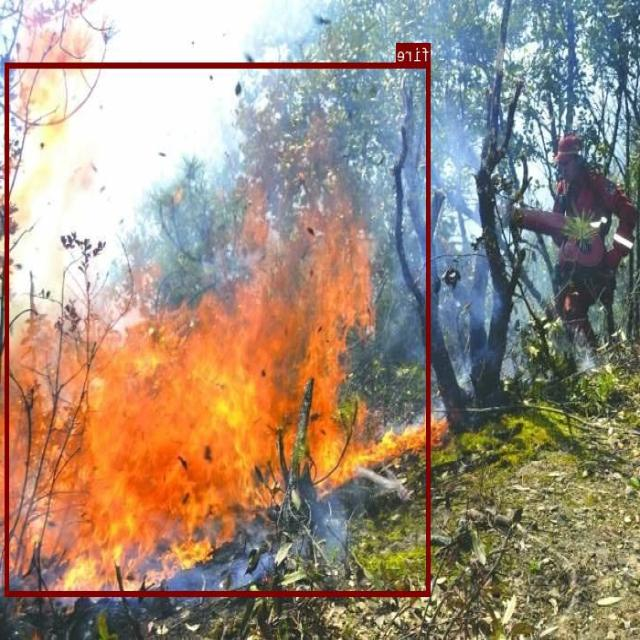fire: (6, 61, 431, 594)
